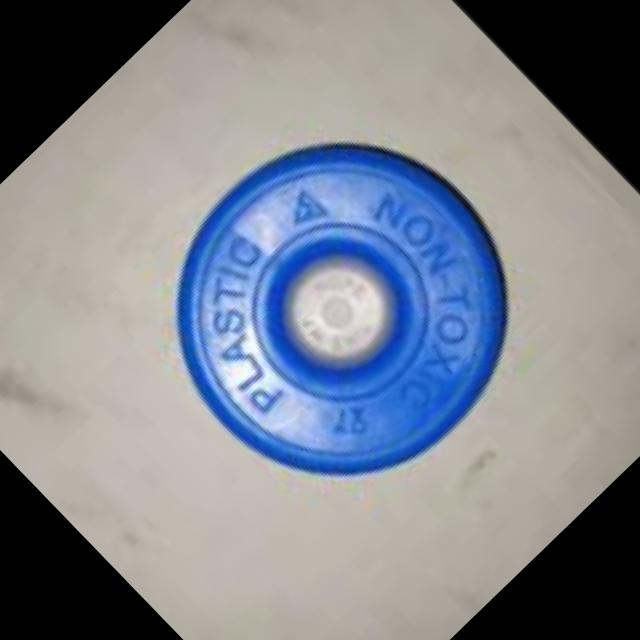TutupGalon: (107, 72, 582, 548)
